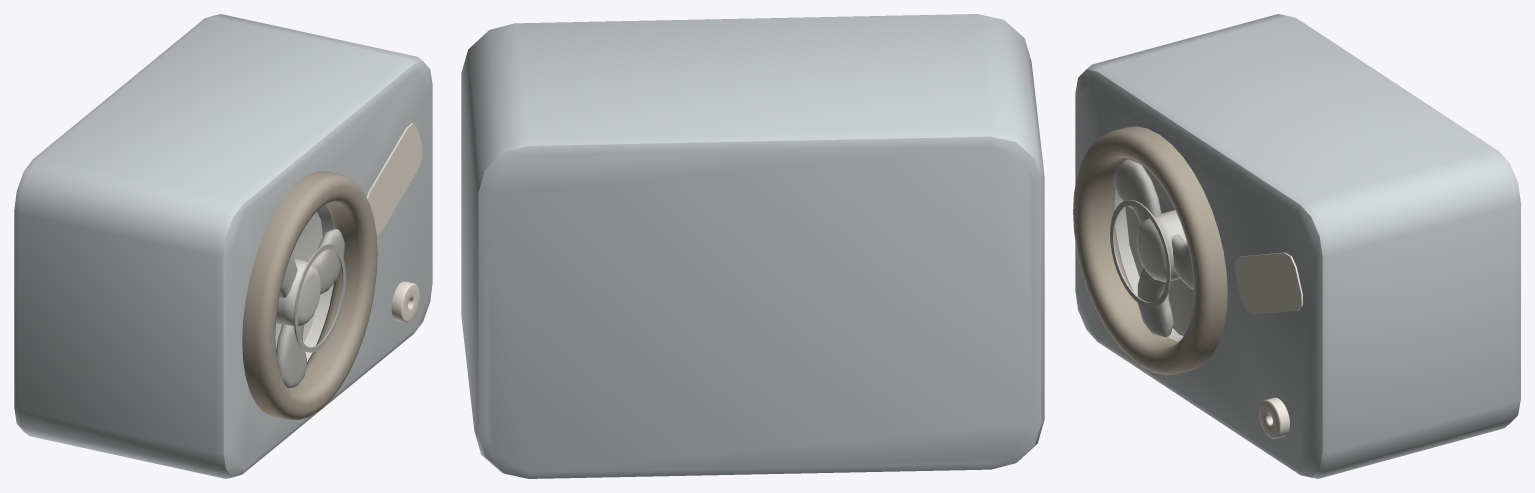
File: aircon.glb
3 views of the same model, side by side, from view 1: azimuth 30°, elevation 25°; view 2: azimuth 150°, elevation 25°; view 3: azimuth 270°, elevation 25° (orthographic). The views are drawn at different scales.
Parts seen in each view (by area): view 1: MeshBoolean_v1_1, 管道, 立方体_1, 圆柱_2, Retopo_多边形_2, Retopo_多边形_2_3, 管道_1, 管道_3; view 2: MeshBoolean_v1_1; view 3: MeshBoolean_v1_1, 管道, 立方体_1, 圆柱_2, Retopo_多边形_2_2, Retopo_多边形_2, 管道_1, 管道_3, Retopo_多边形_2_3.
Boxes of the visible parts, <box> form: MeshBoolean_v1_1: <box>14,14,432,478</box>; 管道: <box>242,171,377,420</box>; 立方体_1: <box>366,123,422,235</box>; 圆柱_2: <box>276,259,320,326</box>; Retopo_多边形_2: <box>276,324,306,388</box>; Retopo_多边形_2_3: <box>307,228,344,294</box>; 管道_1: <box>294,244,345,352</box>; 管道_3: <box>391,281,419,322</box>; MeshBoolean_v1_1: <box>461,14,1044,478</box>; MeshBoolean_v1_1: <box>1075,14,1520,478</box>; 管道: <box>1073,126,1227,374</box>; 立方体_1: <box>1235,252,1302,314</box>; 圆柱_2: <box>1136,210,1186,282</box>; Retopo_多边形_2_2: <box>1113,159,1161,224</box>; Retopo_多边形_2: <box>1137,268,1173,336</box>; 管道_1: <box>1110,200,1171,307</box>; 管道_3: <box>1259,397,1289,438</box>; Retopo_多边形_2_3: <box>1171,234,1193,289</box>.
Size of the model in its own units: 0.0841 by 0.0499 by 0.0735.
